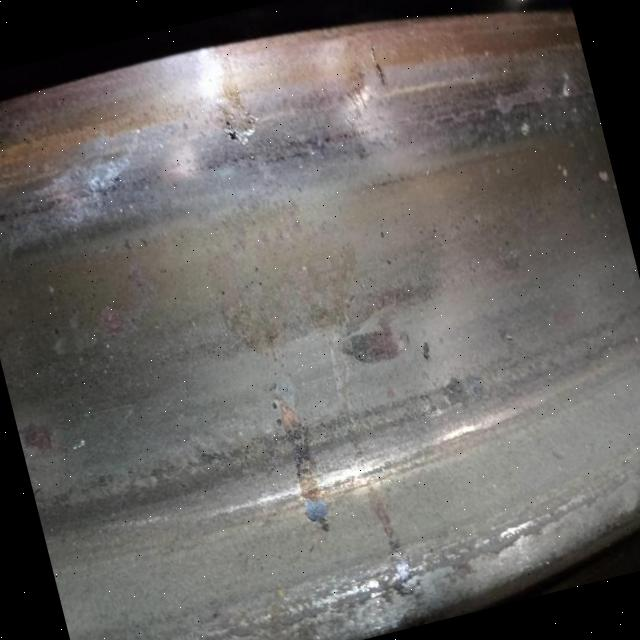Brake_Thermal_Cracks: (367, 39, 389, 91)
Rollerpile: (30, 154, 143, 233)
